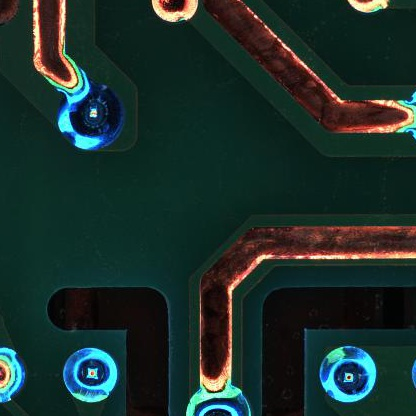spot: (55, 83, 127, 153), (316, 345, 378, 406), (63, 345, 118, 402)
